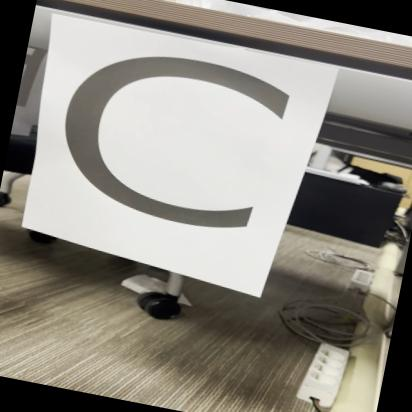seat: (11, 6, 316, 291)
